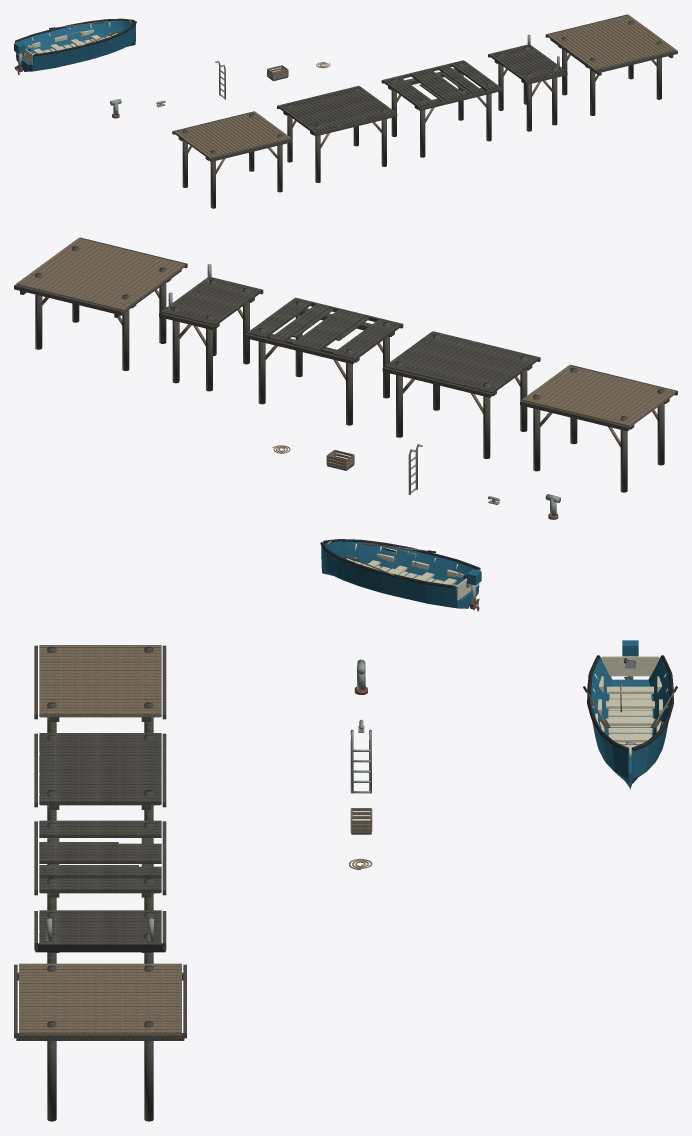
File: PROJECT_Z_Fishing_Harbor_Pier_and_Skiff.glb
3 views of the same model, one above another, from view 1: azimuth 30°, elevation 25°; view 2: azimuth 150°, elevation 25°; view 3: azimuth 270°, elevation 25° (orthographic). The views are drawn at different scales.
Visible parts, largest first — view 1: PIER_WideLanding_4x4m__Deck_Planks_17cm_TrueGaps, BOAT_SeaWren__Skiff_FullThickness_HullOuterAndInnerShell, PIER_Waterlogged_4x3m__Deck_Planks_17cm_TrueGaps, PIER_Straight_4x3m__Deck_Planks_17cm_TrueGaps, PIER_Broken_4x3m__Deck_Planks_17cm_TrueGaps, PIER_EndCap_2x3m__Deck_Planks_17cm_TrueGaps, PIER_Straight_4x3m__MarineTimberPiles_OctagonalLowPoly, PIER_Broken_4x3m__MarineTimberPiles_OctagonalLowPoly, PIER_Waterlogged_4x3m__MarineTimberPiles_OctagonalLowPoly, PIER_EndCap_2x3m__MarineTimberPiles_OctagonalLowPoly, PIER_WideLanding_4x4m__MarineTimberPiles_OctagonalLowPoly, BOAT_SeaWren__HullContinuousRubRail_PortAndStarboard (+4 smaller); view 2: PIER_WideLanding_4x4m__Deck_Planks_17cm_TrueGaps, BOAT_SeaWren__Skiff_FullThickness_HullOuterAndInnerShell, PIER_Straight_4x3m__Deck_Planks_17cm_TrueGaps, PIER_Waterlogged_4x3m__Deck_Planks_17cm_TrueGaps, PIER_Broken_4x3m__Deck_Planks_17cm_TrueGaps, PIER_EndCap_2x3m__Deck_Planks_17cm_TrueGaps, PIER_Straight_4x3m__MarineTimberPiles_OctagonalLowPoly, PIER_Broken_4x3m__MarineTimberPiles_OctagonalLowPoly, PIER_Waterlogged_4x3m__MarineTimberPiles_OctagonalLowPoly, PIER_WideLanding_4x4m__MarineTimberPiles_OctagonalLowPoly, PIER_EndCap_2x3m__MarineTimberPiles_OctagonalLowPoly, BOAT_SeaWren__HullContinuousRubRail_PortAndStarboard (+4 smaller); view 3: PIER_WideLanding_4x4m__Deck_Planks_17cm_TrueGaps, PIER_Straight_4x3m__Deck_Planks_17cm_TrueGaps, PIER_Waterlogged_4x3m__Deck_Planks_17cm_TrueGaps, PIER_Broken_4x3m__Deck_Planks_17cm_TrueGaps, BOAT_SeaWren__Skiff_FullThickness_HullOuterAndInnerShell, PIER_EndCap_2x3m__Deck_Planks_17cm_TrueGaps, PIER_WideLanding_4x4m__MarineTimberPiles_OctagonalLowPoly, BOAT_SeaWren__Skiff_BenchSeats_SolidFRP, BOAT_SeaWren__Skiff_AntiSlipFloorBattens, PIER_EndCap_2x3m__PierEnd_FenderCap, BOAT_SeaWren__HullContinuousRubRail_PortAndStarboard, BOAT_SeaWren__Skiff_ReinforcedOutboardTransom (+1 smaller).
Boxes of the visible parts, <box> form: PIER_WideLanding_4x4m__Deck_Planks_17cm_TrueGaps: <box>547,15,676,70</box>; BOAT_SeaWren__Skiff_FullThickness_HullOuterAndInnerShell: <box>15,20,135,71</box>; PIER_Waterlogged_4x3m__Deck_Planks_17cm_TrueGaps: <box>278,86,395,133</box>; PIER_Straight_4x3m__Deck_Planks_17cm_TrueGaps: <box>174,112,290,159</box>; PIER_Broken_4x3m__Deck_Planks_17cm_TrueGaps: <box>383,61,500,108</box>; PIER_EndCap_2x3m__Deck_Planks_17cm_TrueGaps: <box>489,45,565,81</box>; PIER_Straight_4x3m__MarineTimberPiles_OctagonalLowPoly: <box>182,113,282,208</box>; PIER_Broken_4x3m__MarineTimberPiles_OctagonalLowPoly: <box>391,62,491,157</box>; PIER_Waterlogged_4x3m__MarineTimberPiles_OctagonalLowPoly: <box>287,88,386,182</box>; PIER_EndCap_2x3m__MarineTimberPiles_OctagonalLowPoly: <box>498,46,557,131</box>; PIER_WideLanding_4x4m__MarineTimberPiles_OctagonalLowPoly: <box>562,21,661,115</box>; BOAT_SeaWren__HullContinuousRubRail_PortAndStarboard: <box>15,18,136,56</box>; PIER_WideLanding_4x4m__Deck_Planks_17cm_TrueGaps: <box>16,238,185,311</box>; BOAT_SeaWren__Skiff_FullThickness_HullOuterAndInnerShell: <box>321,541,480,608</box>; PIER_Straight_4x3m__Deck_Planks_17cm_TrueGaps: <box>522,365,675,427</box>; PIER_Waterlogged_4x3m__Deck_Planks_17cm_TrueGaps: <box>384,332,538,394</box>; PIER_Broken_4x3m__Deck_Planks_17cm_TrueGaps: <box>247,298,400,360</box>; PIER_EndCap_2x3m__Deck_Planks_17cm_TrueGaps: <box>161,278,260,326</box>; PIER_Straight_4x3m__MarineTimberPiles_OctagonalLowPoly: <box>533,367,664,492</box>; PIER_Broken_4x3m__MarineTimberPiles_OctagonalLowPoly: <box>258,300,389,425</box>; PIER_Waterlogged_4x3m__MarineTimberPiles_OctagonalLowPoly: <box>396,334,527,458</box>; PIER_WideLanding_4x4m__MarineTimberPiles_OctagonalLowPoly: <box>35,246,166,370</box>; PIER_EndCap_2x3m__MarineTimberPiles_OctagonalLowPoly: <box>172,279,249,391</box>; BOAT_SeaWren__HullContinuousRubRail_PortAndStarboard: <box>320,539,480,588</box>; PIER_WideLanding_4x4m__Deck_Planks_17cm_TrueGaps: <box>19,963,181,1035</box>; PIER_Straight_4x3m__Deck_Planks_17cm_TrueGaps: <box>39,645,161,716</box>; PIER_Waterlogged_4x3m__Deck_Planks_17cm_TrueGaps: <box>39,733,161,804</box>; PIER_Broken_4x3m__Deck_Planks_17cm_TrueGaps: <box>39,820,161,892</box>; BOAT_SeaWren__Skiff_FullThickness_HullOuterAndInnerShell: <box>591,657,669,789</box>; PIER_EndCap_2x3m__Deck_Planks_17cm_TrueGaps: <box>39,910,161,944</box>; PIER_WideLanding_4x4m__MarineTimberPiles_OctagonalLowPoly: <box>47,965,153,1121</box>; BOAT_SeaWren__Skiff_BenchSeats_SolidFRP: <box>606,686,654,755</box>; BOAT_SeaWren__Skiff_AntiSlipFloorBattens: <box>608,694,652,756</box>; PIER_EndCap_2x3m__PierEnd_FenderCap: <box>35,943,165,952</box>; BOAT_SeaWren__HullContinuousRubRail_PortAndStarboard: <box>587,655,673,751</box>; BOAT_SeaWren__Skiff_ReinforcedOutboardTransom: <box>602,656,658,676</box>.
Size of the model in its own units: 23.54 by 3.12 by 16.28.
Materials: 9 (9 with a texture image).
